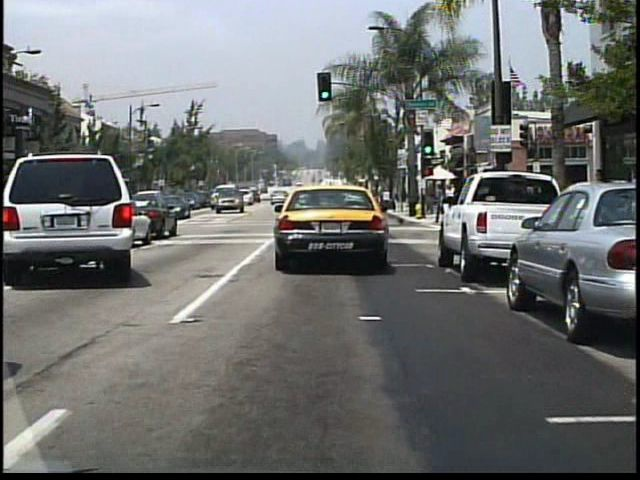person: (588, 166, 614, 255), (423, 182, 435, 216)
